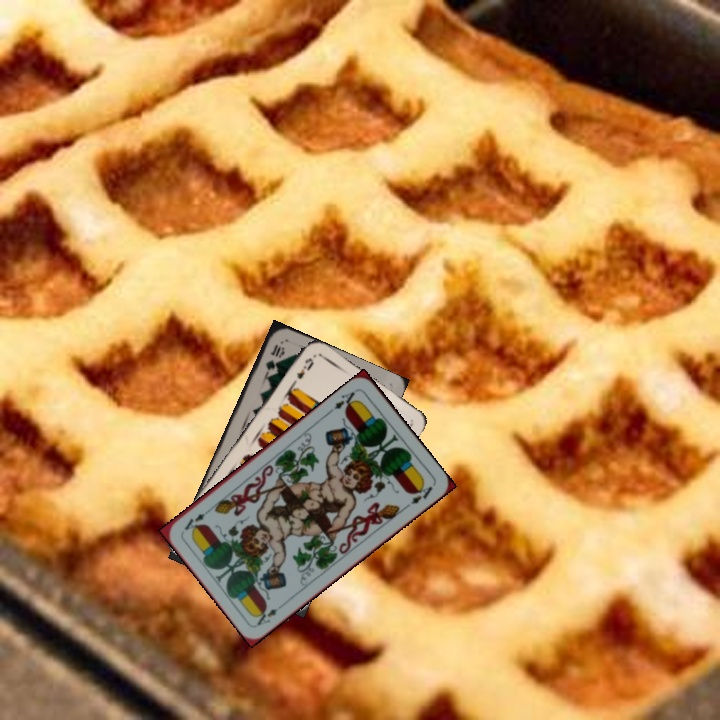E9: (288, 354, 317, 388)
EA: (252, 599, 287, 628), (330, 388, 360, 413)
G10: (261, 340, 286, 379)
